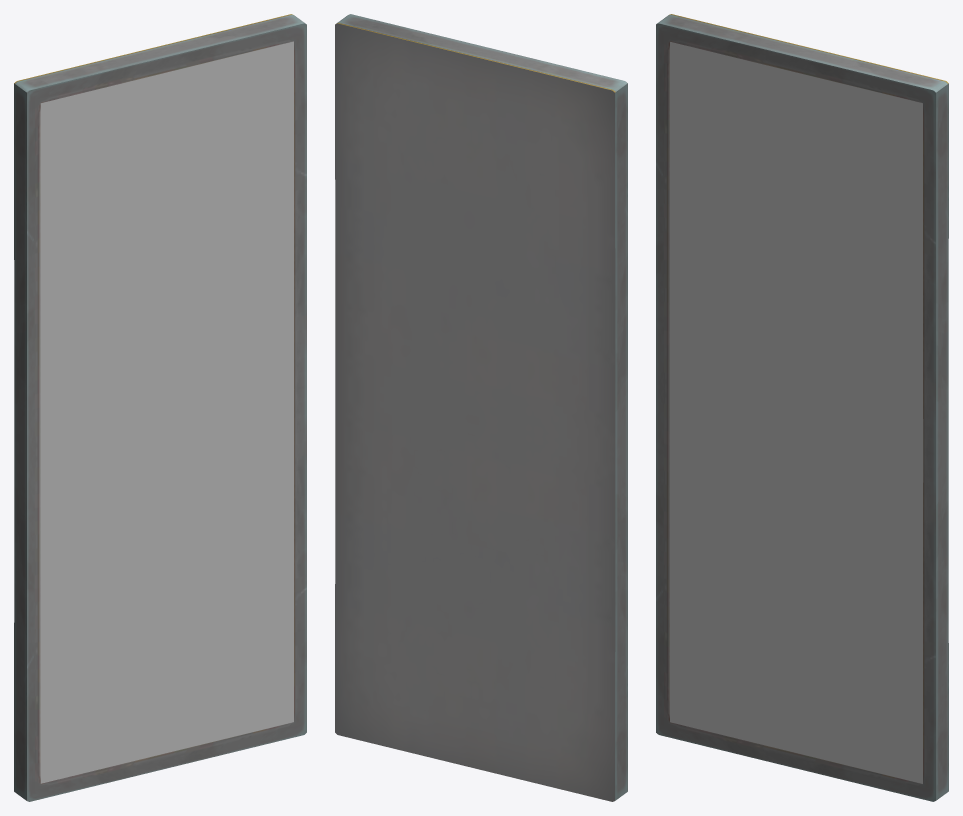
Rendered from pref_sm_city_billboardholo03_snow_lv3.fbx.
3 views of the same model, side by side, from view 1: azimuth 30°, elevation 25°; view 2: azimuth 150°, elevation 25°; view 3: azimuth 330°, elevation 25° (orthographic).
Visible parts, largest first — view 1: sm_city_billboardholo03_snow_lv3, sm_city_billboardholo03b_snow_lv3; view 2: sm_city_billboardholo03b_snow_lv3; view 3: sm_city_billboardholo03_snow_lv3, sm_city_billboardholo03b_snow_lv3.
Part boxes in pixels (box(x1,y1,x2,y2)): sm_city_billboardholo03_snow_lv3: box(40, 41, 293, 783); sm_city_billboardholo03b_snow_lv3: box(14, 14, 306, 801); sm_city_billboardholo03b_snow_lv3: box(335, 14, 627, 801); sm_city_billboardholo03_snow_lv3: box(670, 42, 922, 783); sm_city_billboardholo03b_snow_lv3: box(656, 14, 948, 801).
Bounding box in the file's own units: 9.46 × 22.96 × 0.7559.
